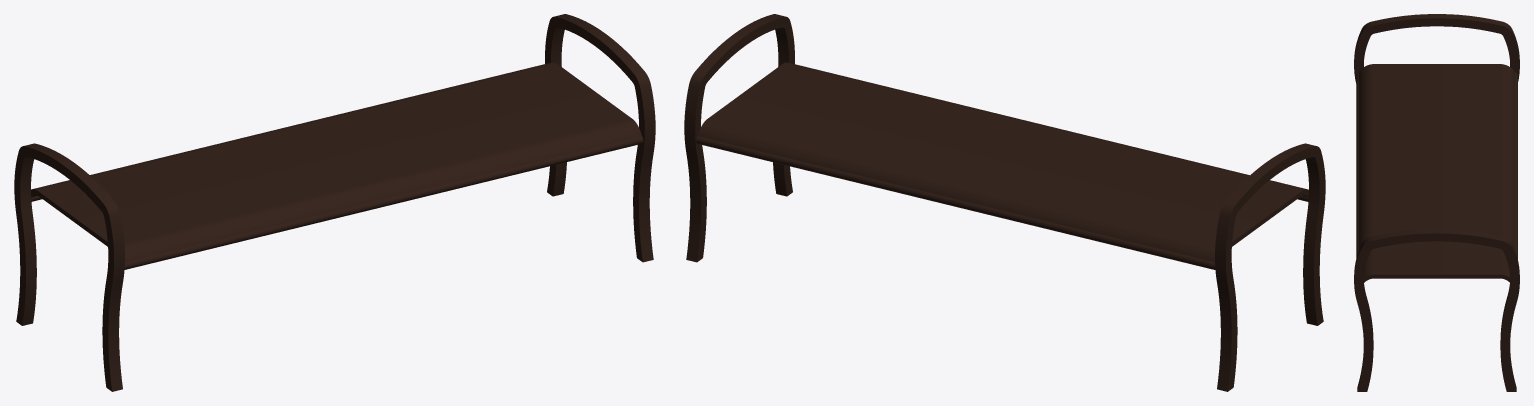
3 views of the same model, side by side, from view 1: azimuth 30°, elevation 25°; view 2: azimuth 150°, elevation 25°; view 3: azimuth 270°, elevation 25° (orthographic). The views are drawn at different scales.
Parts seen in each view (by area): view 1: mesh1_mesh1-geometry, mesh5_mesh5-geometry, mesh3_mesh3-geometry; view 2: mesh1_mesh1-geometry, mesh3_mesh3-geometry, mesh5_mesh5-geometry; view 3: mesh1_mesh1-geometry, mesh5_mesh5-geometry, mesh3_mesh3-geometry.
Boxes of the visible parts, box(x1,y1,x2,y2) form: mesh1_mesh1-geometry: box(31, 62, 643, 269); mesh5_mesh5-geometry: box(64, 34, 655, 391); mesh3_mesh3-geometry: box(14, 14, 605, 325); mesh1_mesh1-geometry: box(696, 62, 1308, 269); mesh3_mesh3-geometry: box(684, 34, 1275, 391); mesh5_mesh5-geometry: box(734, 14, 1325, 325); mesh1_mesh1-geometry: box(1356, 64, 1517, 282); mesh5_mesh5-geometry: box(1354, 14, 1436, 391); mesh3_mesh3-geometry: box(1437, 14, 1519, 391).
Size of the model in its own units: 0.907 by 0.3056 by 0.2896.
